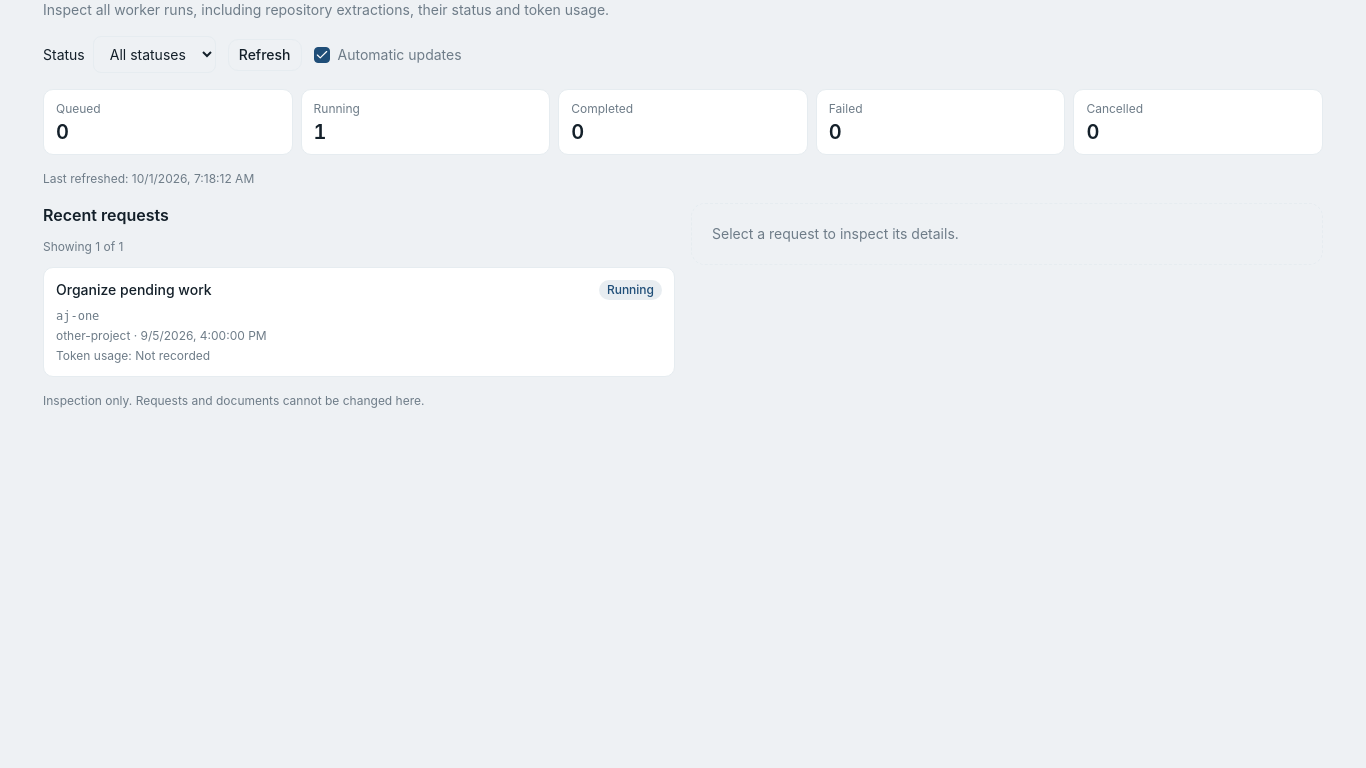
it: Agent queue inspector › opens the organizer project in lanes without inventing a specification section
Click the button "Organize pending work" at (134, 290), box [43,267,675,377]
(page scrolled)
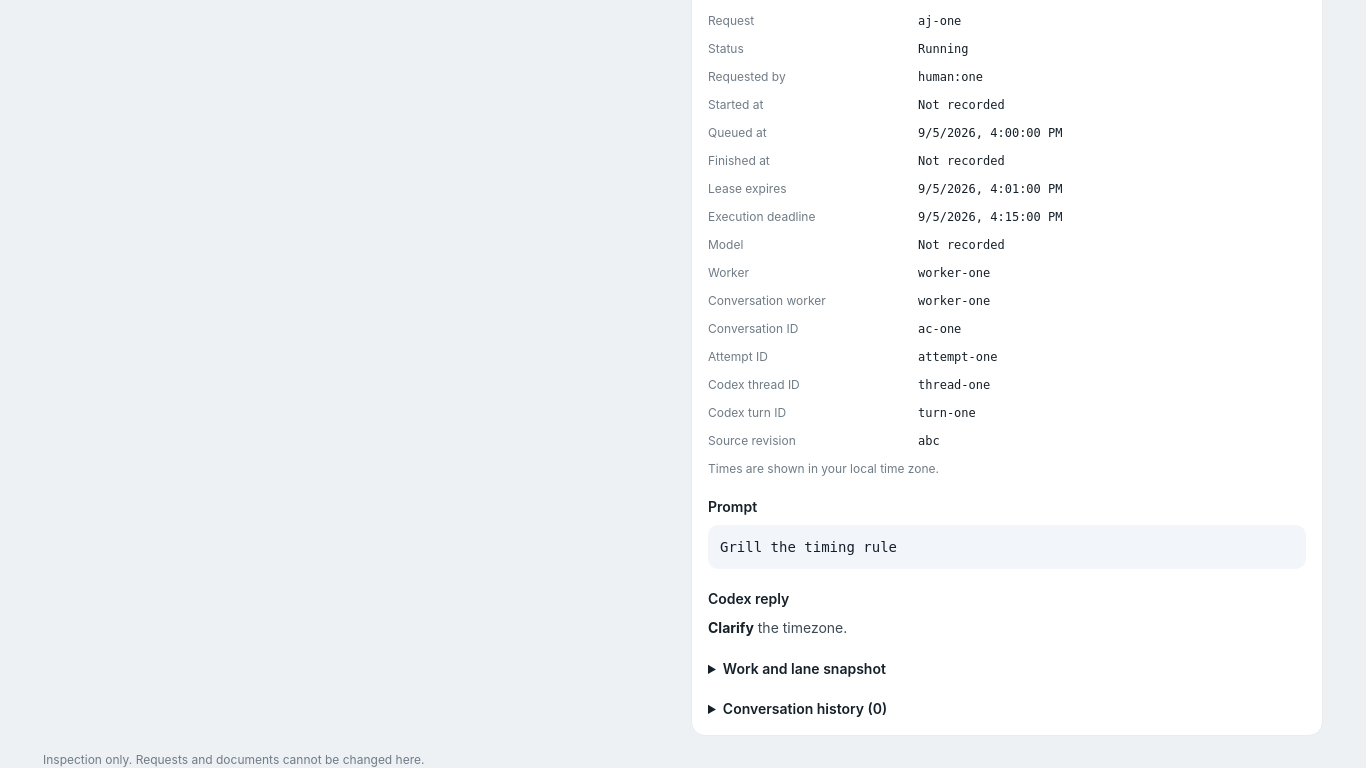
Result: the heading "Work and lane snapshot" is shown at [723,660,886,677]
